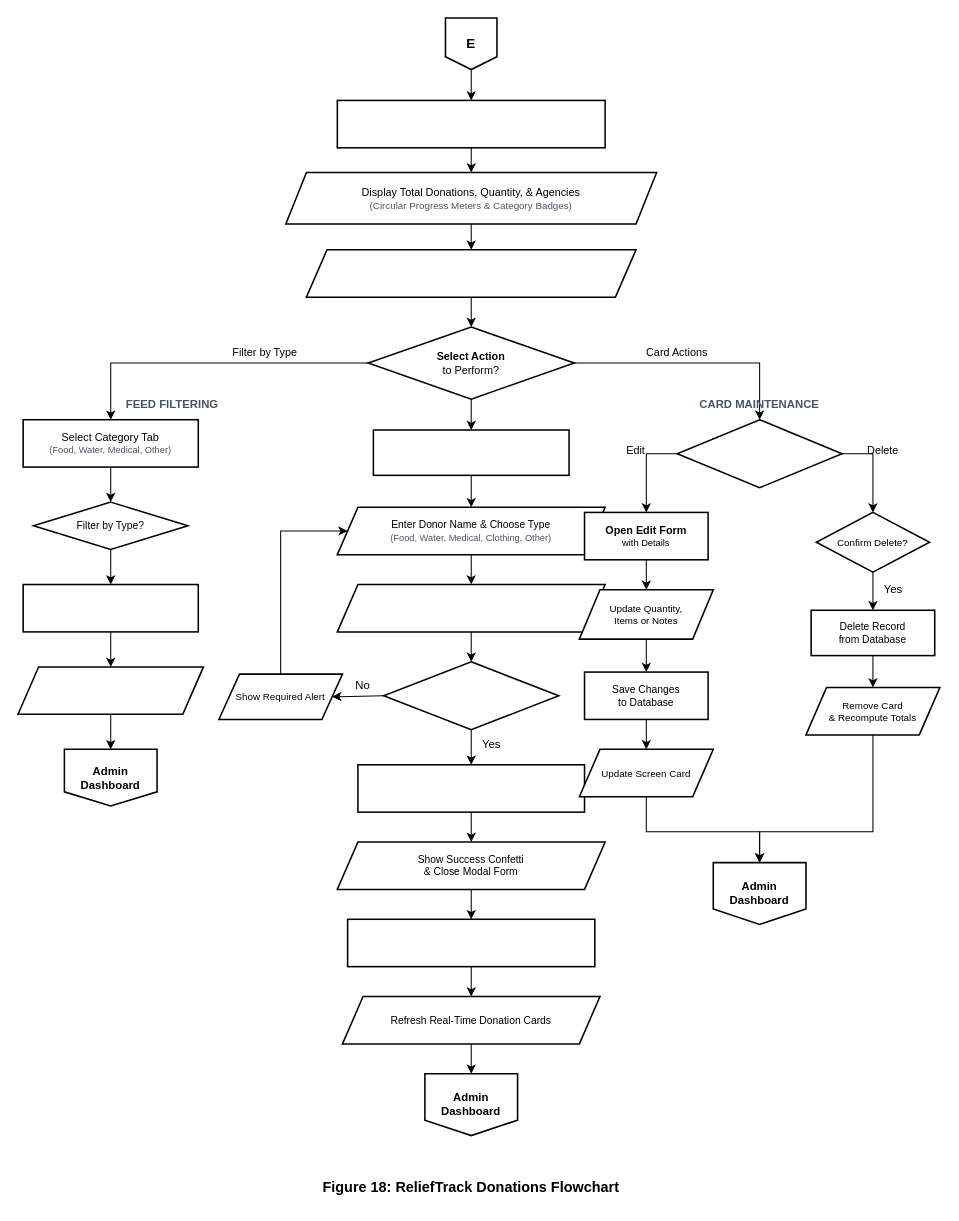
The diagram is 959 pixels wide and 1221 high, and some of its shapes have lost their labels. Each missing label, with the box of its shape:
Display Donations Feed & Category Tabs: (305, 249, 636, 297)
Display Filtered Cards: (17, 666, 204, 715)
Donations Management Page: (336, 99, 605, 148)
Enter Items, Quantity, Unit, & Optional Notes: (336, 583, 605, 632)
Filter Feed by Category: (22, 583, 199, 632)
Is Donor Name provided?: (382, 661, 559, 730)
Open "New donation" Form: (372, 429, 569, 476)
Recalculate Summary & Progress: (346, 918, 595, 967)
Save Donation to Database: (357, 764, 585, 812)
Select Action: [Edit] or [Delete]?: (676, 418, 842, 488)
